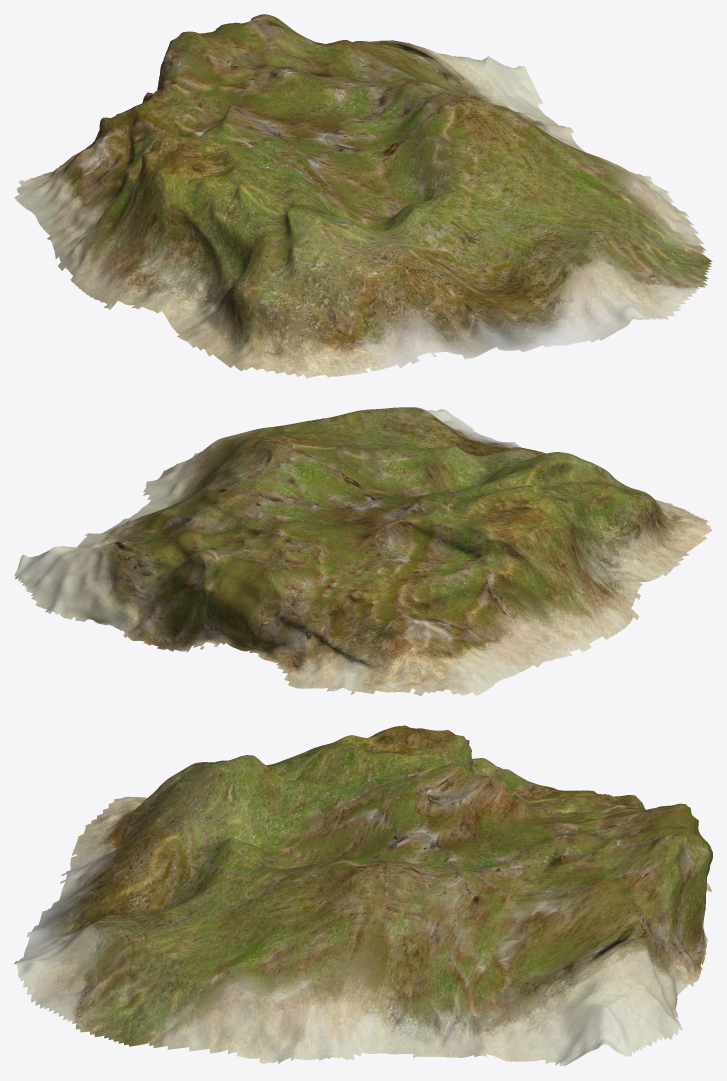
The model's file is island1.fbx.
3 views of the same model, one above another, from view 1: azimuth 30°, elevation 25°; view 2: azimuth 150°, elevation 25°; view 3: azimuth 270°, elevation 25° (orthographic). The views are drawn at different scales.
Parts seen in each view (by area): view 1: island; view 2: island; view 3: island.
Boxes of the visible parts, <box> form: island: <box>14,14,712,378</box>; island: <box>14,407,712,696</box>; island: <box>14,725,712,1066</box>.
Size of the model in its own units: 7626 by 1487 by 8111.
